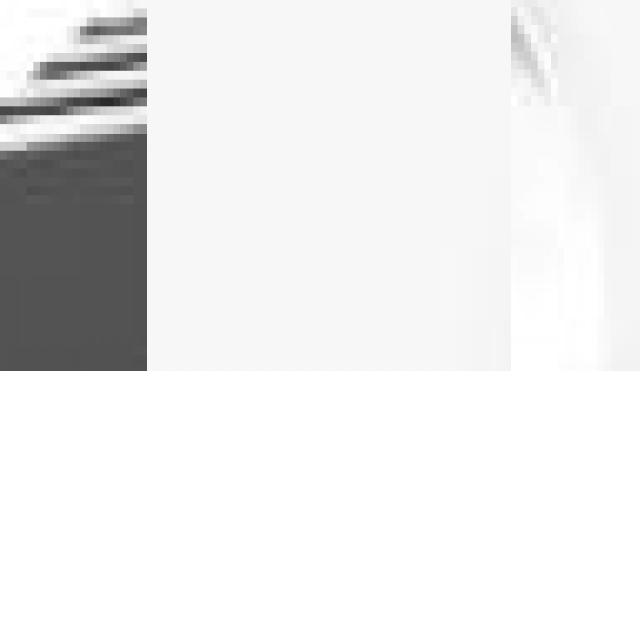forks: (0, 0, 147, 371)
spoons: (511, 0, 640, 371)
